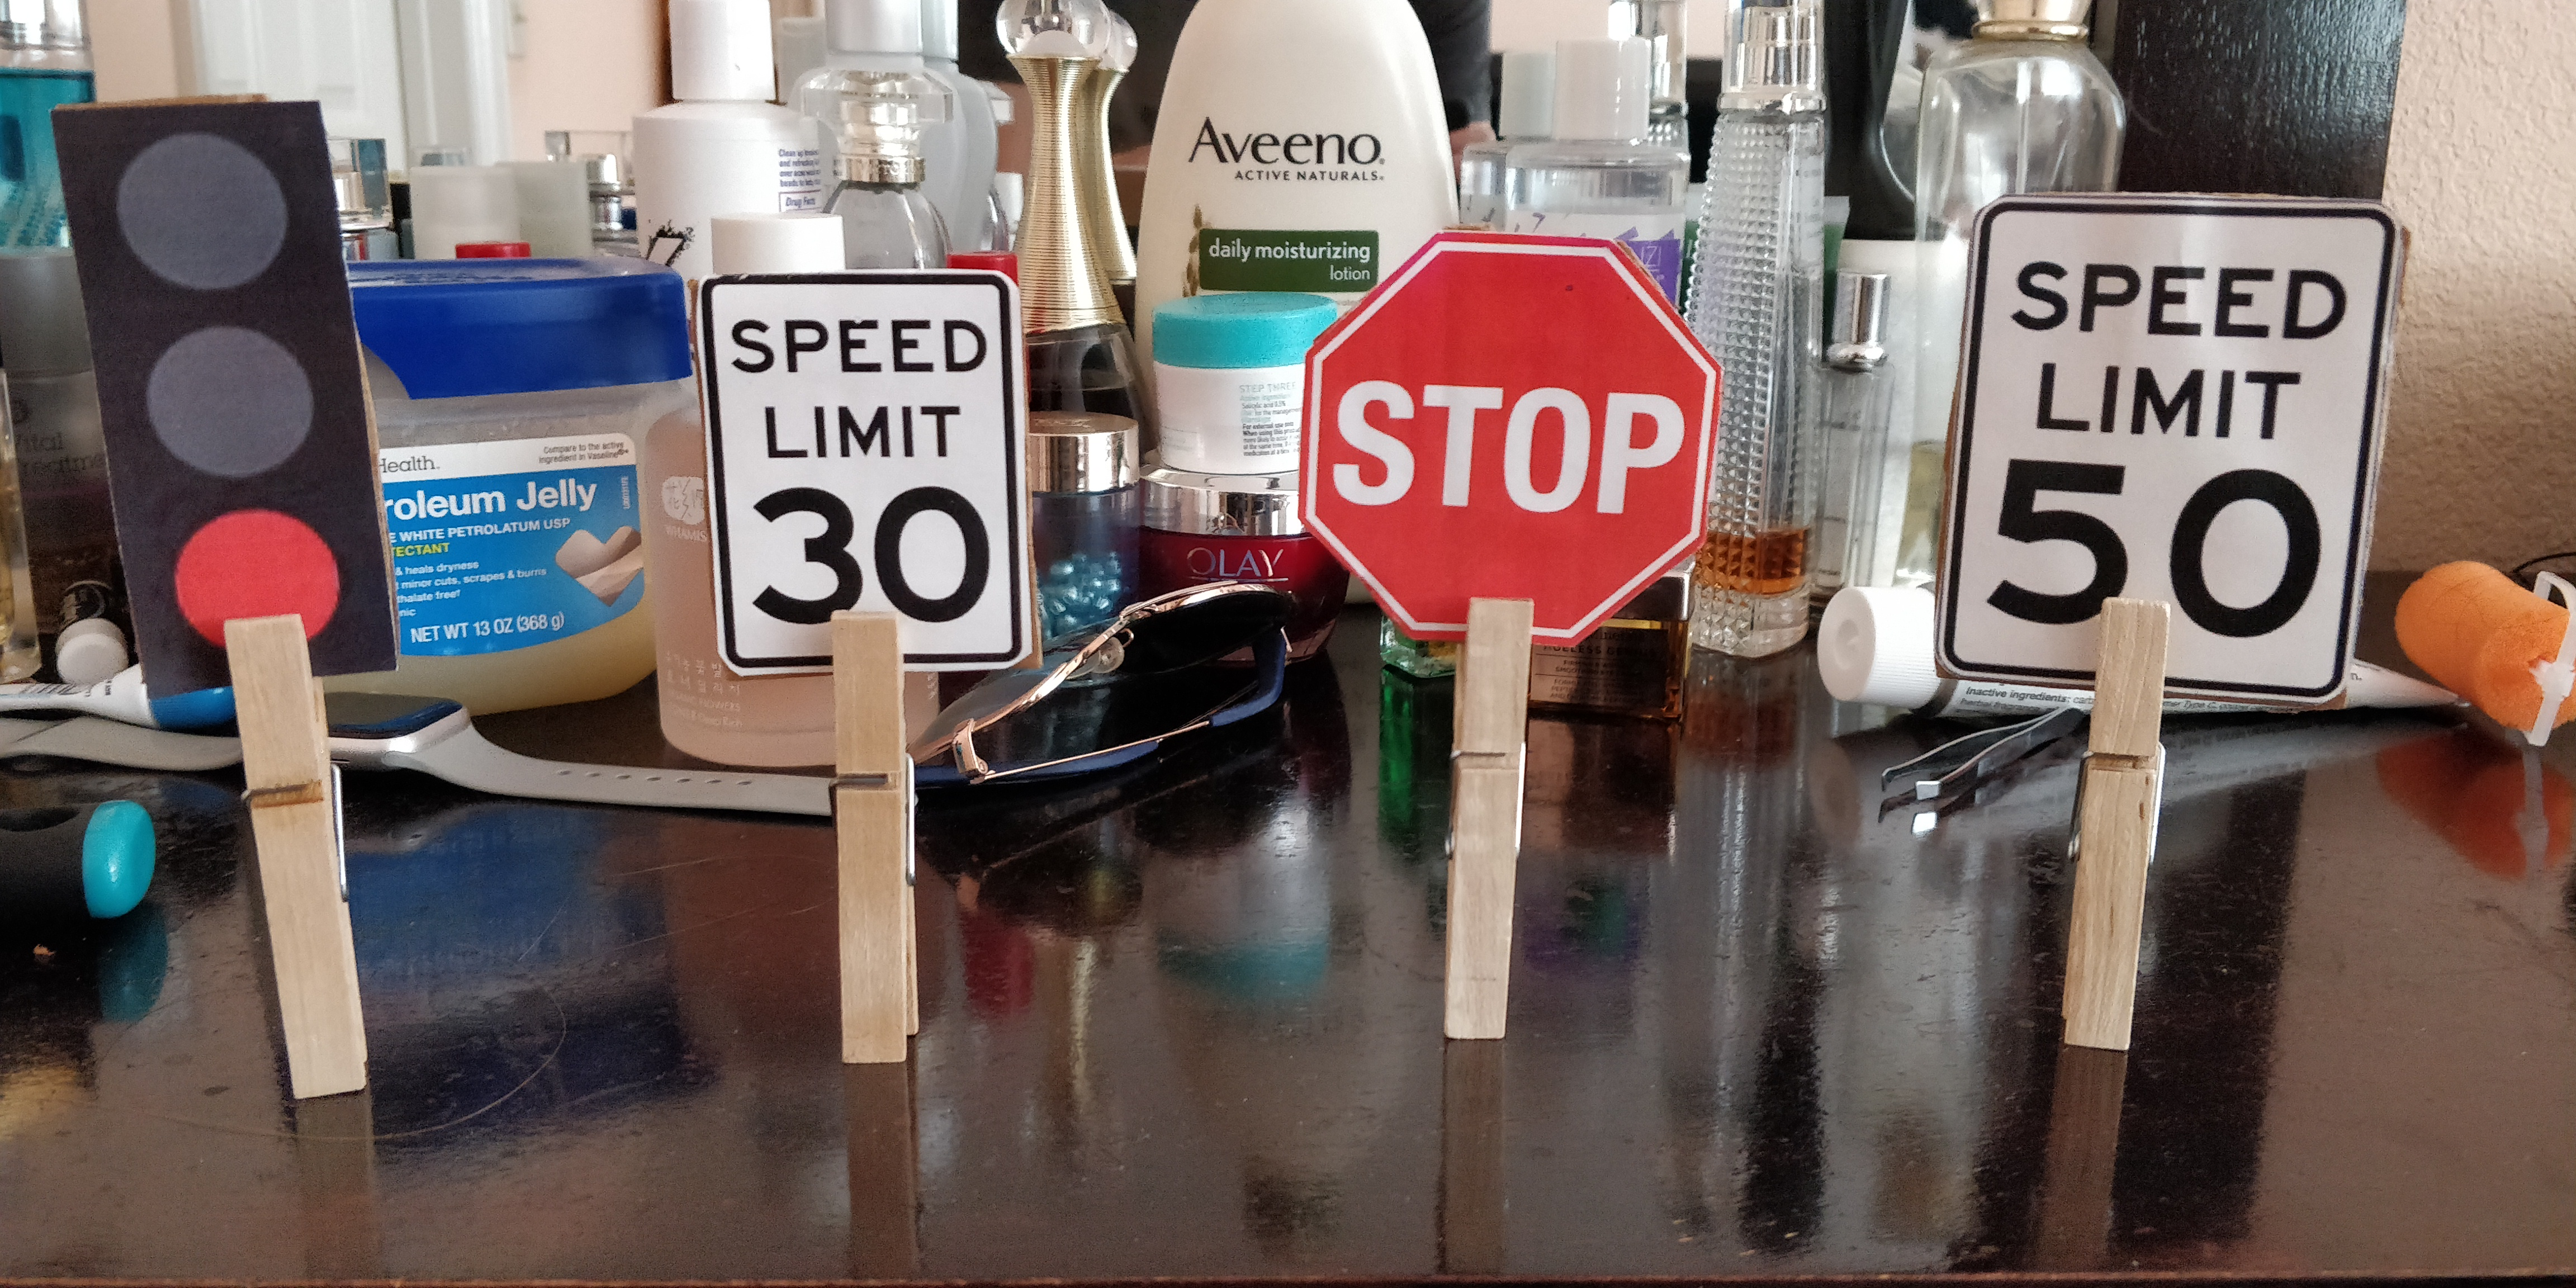Speed Limit 30: (687, 269, 1043, 678)
Speed Limit 50: (1934, 194, 2407, 706)
Stop Sign: (1300, 227, 1723, 649)
red light: (53, 94, 394, 700)
